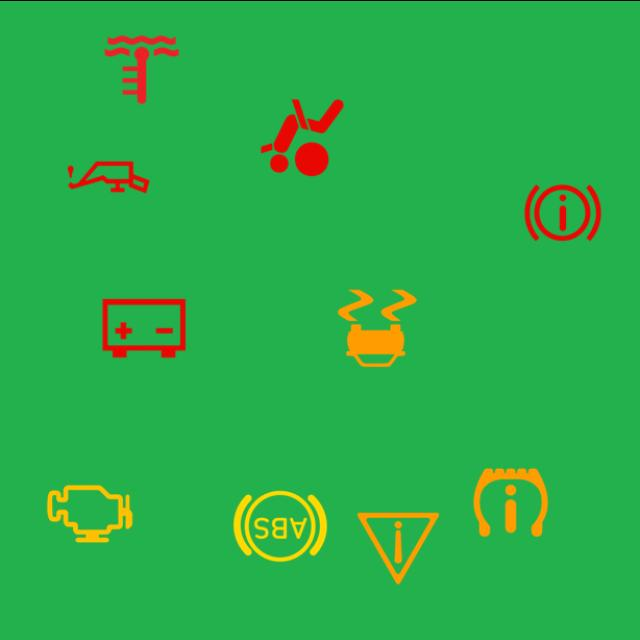Anti Lock Braking System: (230, 474, 332, 576)
Braking System Issue: (512, 160, 614, 262)
Charging System Issue: (93, 276, 195, 378)
Check Engine: (38, 462, 140, 564)
Electronic Stability Problem -ESP-: (326, 276, 428, 378)
Engine Overheating Warning Light: (91, 18, 193, 120)
Low Engine Oil Warning Light: (58, 125, 160, 227)
Low Tire Pressure Warning Light: (459, 450, 562, 552)
Master warning light: (347, 496, 449, 598)
SRS-Airbag: (252, 86, 354, 188)
